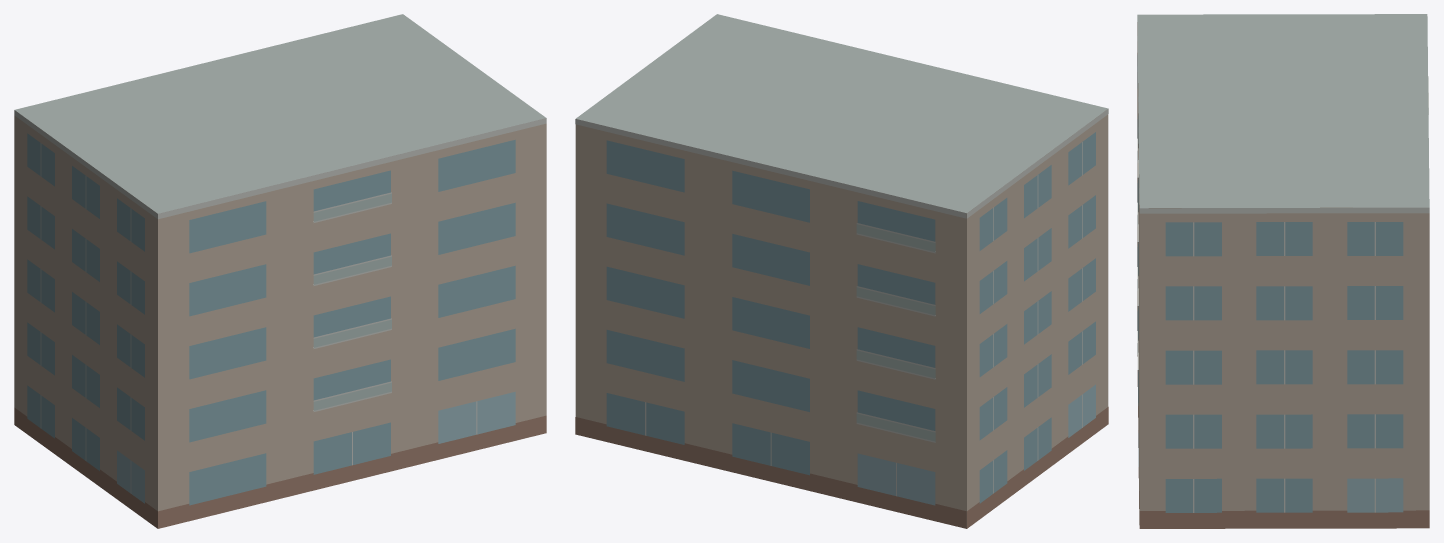
Rendered from survey-upis-32638817.glb.
The picture shows the model from 3 angles, left to right: view 1: azimuth 30°, elevation 25°; view 2: azimuth 150°, elevation 25°; view 3: azimuth 270°, elevation 25°; orthographic projection.
Visible parts, largest first — view 1: survey-upis-32638817.tmp; view 2: survey-upis-32638817.tmp; view 3: survey-upis-32638817.tmp.
Boxes of the visible parts, <box> form: survey-upis-32638817.tmp: <box>14,14,546,528</box>; survey-upis-32638817.tmp: <box>575,14,1108,528</box>; survey-upis-32638817.tmp: <box>1137,14,1429,528</box>.
Bounding box in the file's own units: 18.18 × 14 × 11.57.
